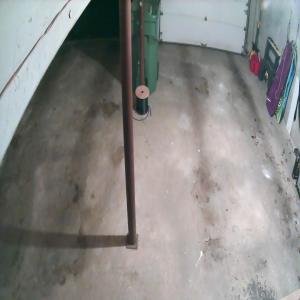garbage bin: (129, 0, 161, 95)
